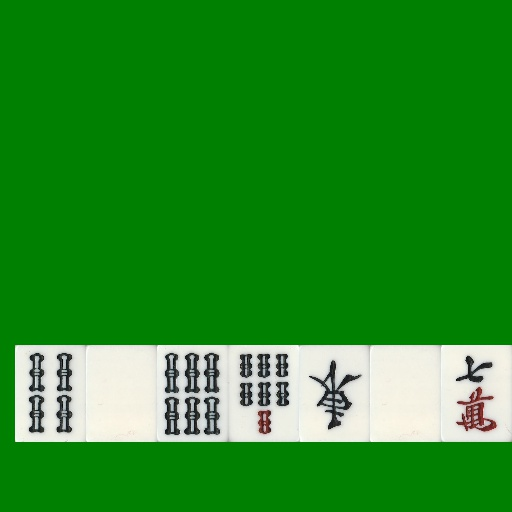4s: (15, 345, 86, 442)
6s: (157, 345, 228, 442)
7m: (441, 345, 512, 442)
7s: (228, 345, 299, 442)
east: (299, 345, 370, 442)
white: (86, 345, 157, 442), (370, 345, 441, 442)
